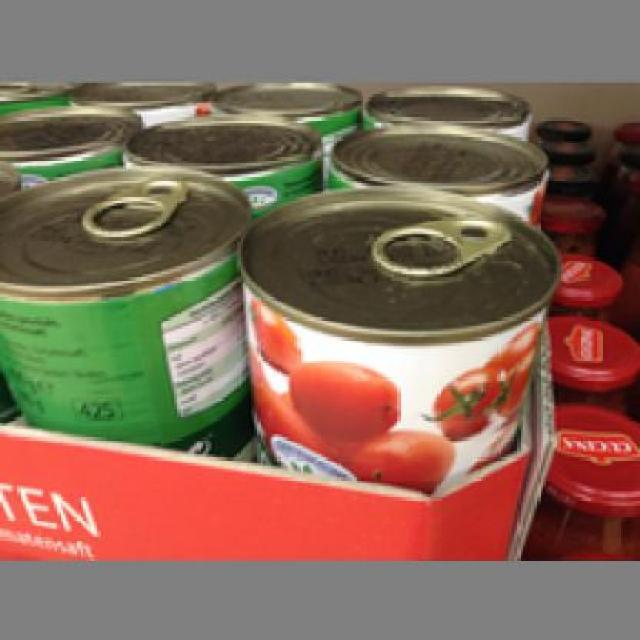Tomato Sauce: (237, 182, 560, 498), (0, 166, 243, 460)
